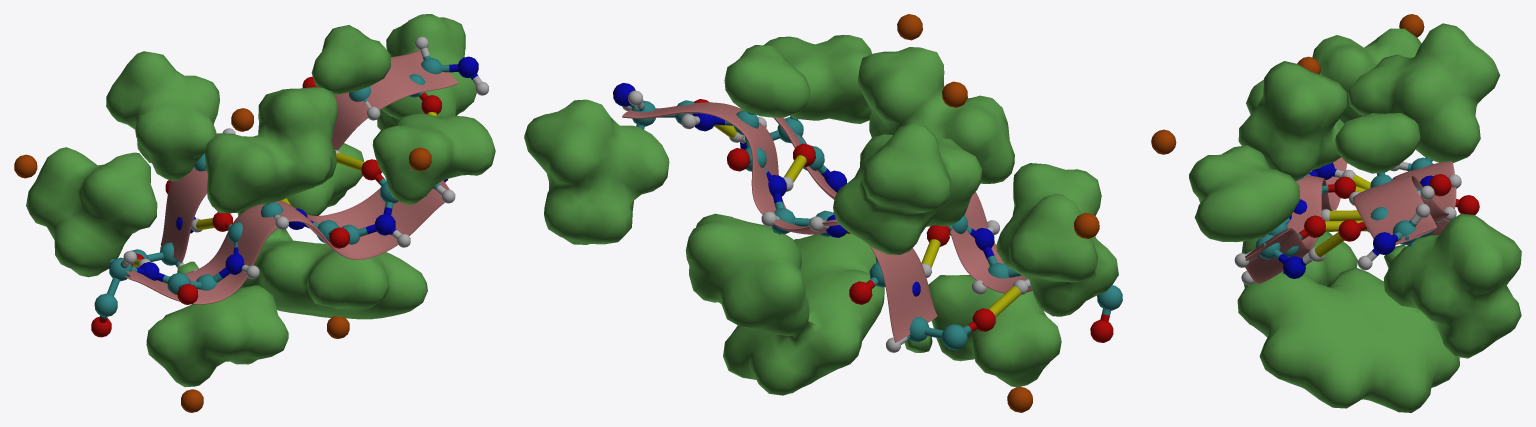
File: pbs_mod8.obj
The picture shows the model from 3 angles, left to right: view 1: azimuth 30°, elevation 25°; view 2: azimuth 150°, elevation 25°; view 3: azimuth 270°, elevation 25°; orthographic projection. The views are drawn at different scales.
Visible parts, largest first — view 1: vmd_mol2_rep2, vmd_mol2_rep3, vmd_mol2_rep0, vmd_mol2_rep4, vmd_mol2_rep1; view 2: vmd_mol2_rep2, vmd_mol2_rep0, vmd_mol2_rep3, vmd_mol2_rep4, vmd_mol2_rep1; view 3: vmd_mol2_rep2, vmd_mol2_rep3, vmd_mol2_rep0, vmd_mol2_rep4, vmd_mol2_rep1.
Part boxes in pixels (x1,y1,x2,y2): vmd_mol2_rep2: [26, 14, 495, 387]; vmd_mol2_rep3: [124, 50, 458, 304]; vmd_mol2_rep0: [91, 36, 488, 337]; vmd_mol2_rep4: [14, 108, 431, 412]; vmd_mol2_rep1: [132, 112, 436, 267]; vmd_mol2_rep2: [524, 35, 1118, 395]; vmd_mol2_rep0: [613, 83, 1122, 352]; vmd_mol2_rep3: [622, 102, 1032, 342]; vmd_mol2_rep4: [897, 14, 1099, 412]; vmd_mol2_rep1: [714, 124, 1021, 317]; vmd_mol2_rep2: [1189, 23, 1521, 412]; vmd_mol2_rep3: [1245, 157, 1456, 283]; vmd_mol2_rep0: [1234, 157, 1479, 285]; vmd_mol2_rep4: [1151, 14, 1424, 154]; vmd_mol2_rep1: [1314, 174, 1370, 257].
Size of the model in its own units: 1.79 by 1.08 by 1.13.
